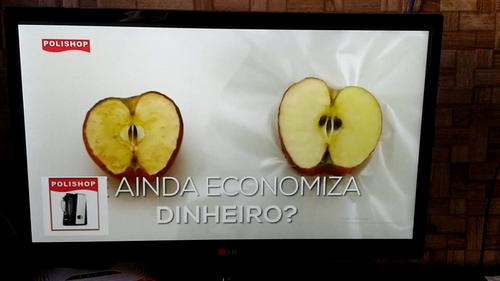Polishop #1: (41, 175, 107, 235)
